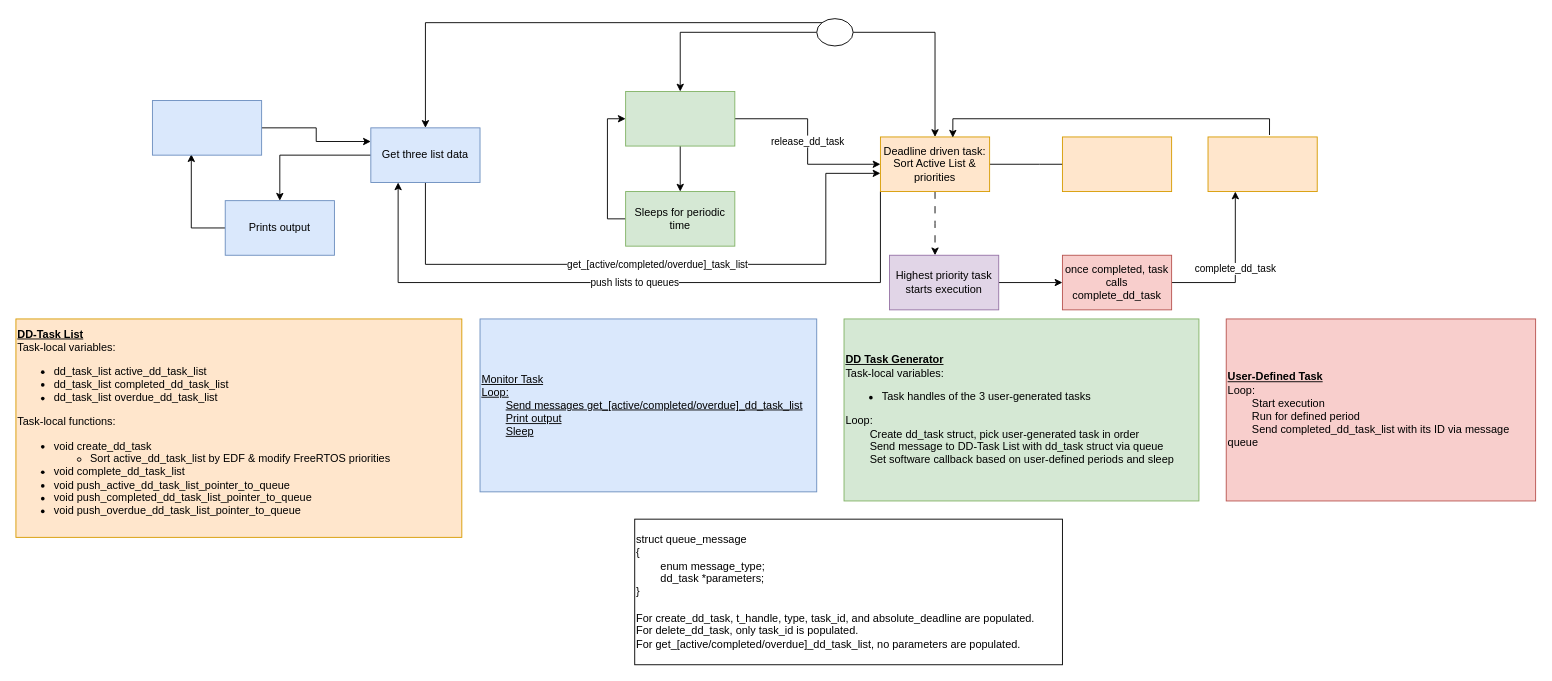
This 1552x681 diagram has some shape labels left out. The shapes that lost their labels are listed below. From the top down, each one's centre as x and y in pixels, then its label:
At point 834,32: "Start".
At point 207,127: "Sleep for some period".
At point 680,118: "Deadline driven task generator generates tasks".
At point 1117,164: "Deadline driven task sleeps".
At point 1262,164: "Deadline driven task awakes".
